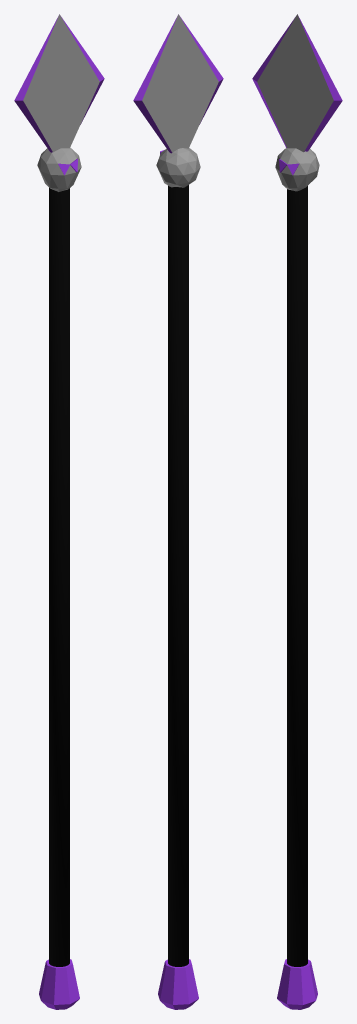
File: Curse Spear.fbx
The picture shows the model from 3 angles, left to right: view 1: azimuth 30°, elevation 25°; view 2: azimuth 210°, elevation 25°; view 3: azimuth 330°, elevation 25°; orthographic projection.
Visible parts, largest first — view 1: Spear, Plane, Spear End, Blade Base; view 2: Spear, Plane, Spear End, Blade Base; view 3: Spear, Plane, Spear End, Blade Base.
Boxes of the visible parts, x1=… form: Spear: x1=49, y1=187, x2=69, y2=966; Plane: x1=14, y1=14, x2=104, y2=152; Spear End: x1=39, y1=959, x2=79, y2=1009; Blade Base: x1=37, y1=147, x2=81, y2=191; Spear: x1=168, y1=185, x2=188, y2=966; Plane: x1=133, y1=14, x2=223, y2=153; Spear End: x1=158, y1=959, x2=198, y2=1009; Blade Base: x1=156, y1=148, x2=200, y2=187; Spear: x1=287, y1=186, x2=307, y2=966; Plane: x1=252, y1=14, x2=342, y2=152; Spear End: x1=277, y1=959, x2=317, y2=1009; Blade Base: x1=275, y1=148, x2=319, y2=191.
Size of the model in its own units: 19.56 by 205 by 8.28.
